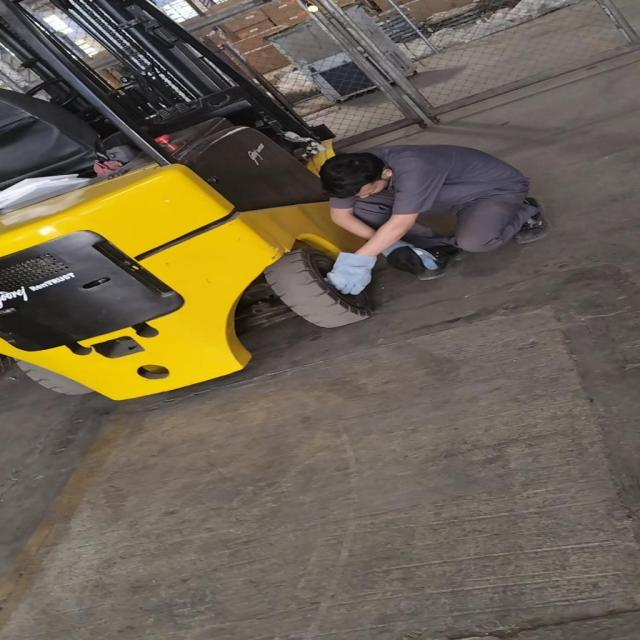Gloves-Detection: (323, 248, 378, 295), (385, 241, 439, 278)
